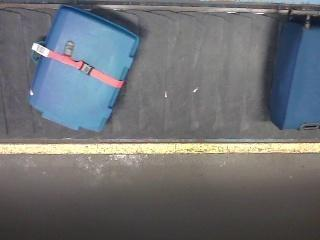Suitcase: (30, 6, 139, 130), (270, 20, 320, 129)
